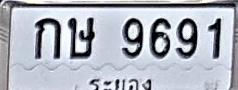1: (208, 17, 222, 59)
6: (150, 17, 170, 58)
9: (176, 18, 197, 58), (122, 17, 142, 58)
A01: (34, 17, 61, 59)
A39: (67, 16, 95, 58)
RYG: (87, 75, 156, 90)
